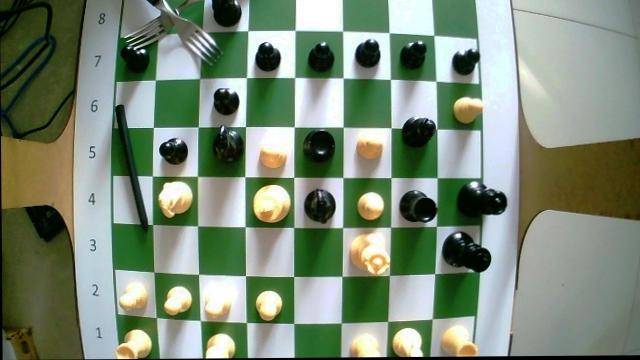piece: (443, 232, 490, 271), (457, 181, 507, 216), (349, 233, 390, 274), (252, 185, 290, 222), (399, 190, 437, 221), (158, 182, 191, 217), (304, 189, 336, 224), (302, 130, 334, 162), (443, 326, 476, 356), (402, 117, 436, 146), (117, 329, 151, 358), (213, 126, 240, 160), (121, 38, 148, 71), (393, 328, 422, 356), (118, 282, 147, 310), (307, 42, 334, 72), (163, 286, 190, 315), (254, 291, 281, 320), (357, 192, 384, 220), (202, 290, 231, 316), (452, 48, 479, 75), (452, 98, 481, 123), (159, 139, 188, 164), (212, 0, 239, 26), (400, 41, 426, 68), (205, 333, 233, 358), (255, 42, 279, 71), (213, 88, 239, 114), (354, 39, 378, 67), (351, 335, 379, 356), (356, 138, 381, 159), (260, 149, 285, 167)
